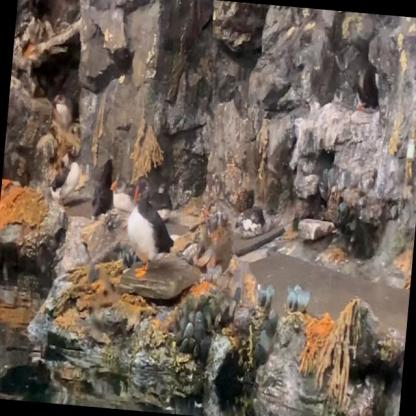puffin: (122, 175, 180, 282), (50, 151, 82, 205), (89, 158, 116, 218), (350, 62, 380, 112), (108, 174, 137, 213), (152, 182, 174, 220)
